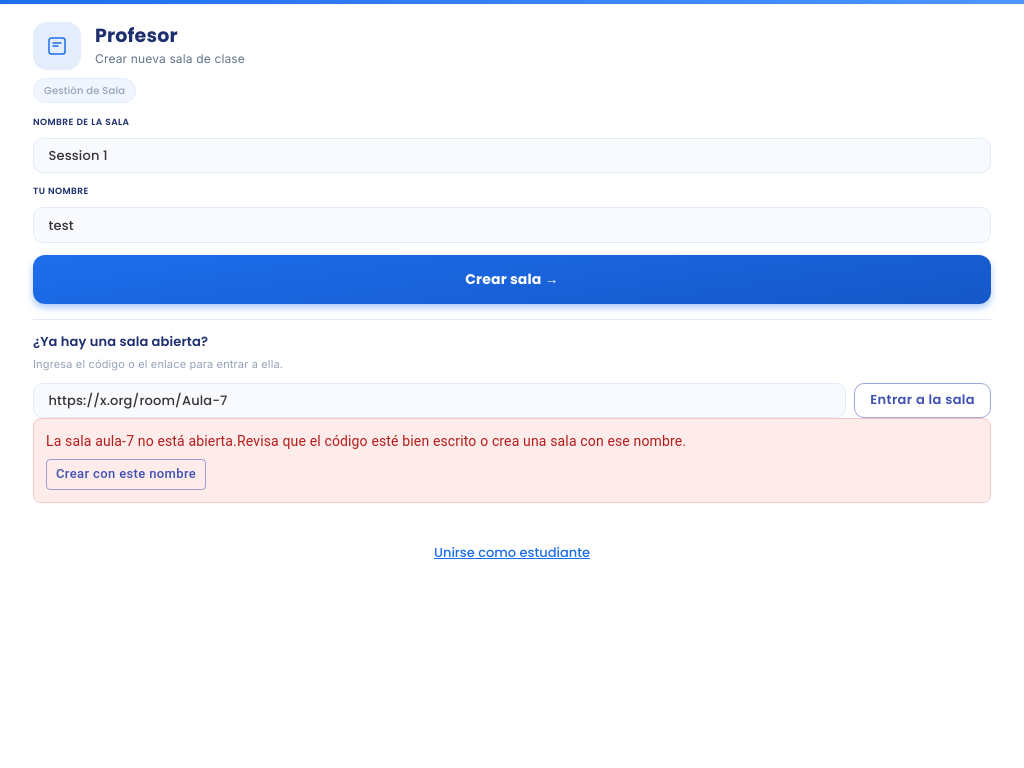
the RoomNameScreen component › when the room to join is not open › goes back from the confirmation without creating
Click the button "Crear con este nombre" at (126, 475), box [46,459,206,490]
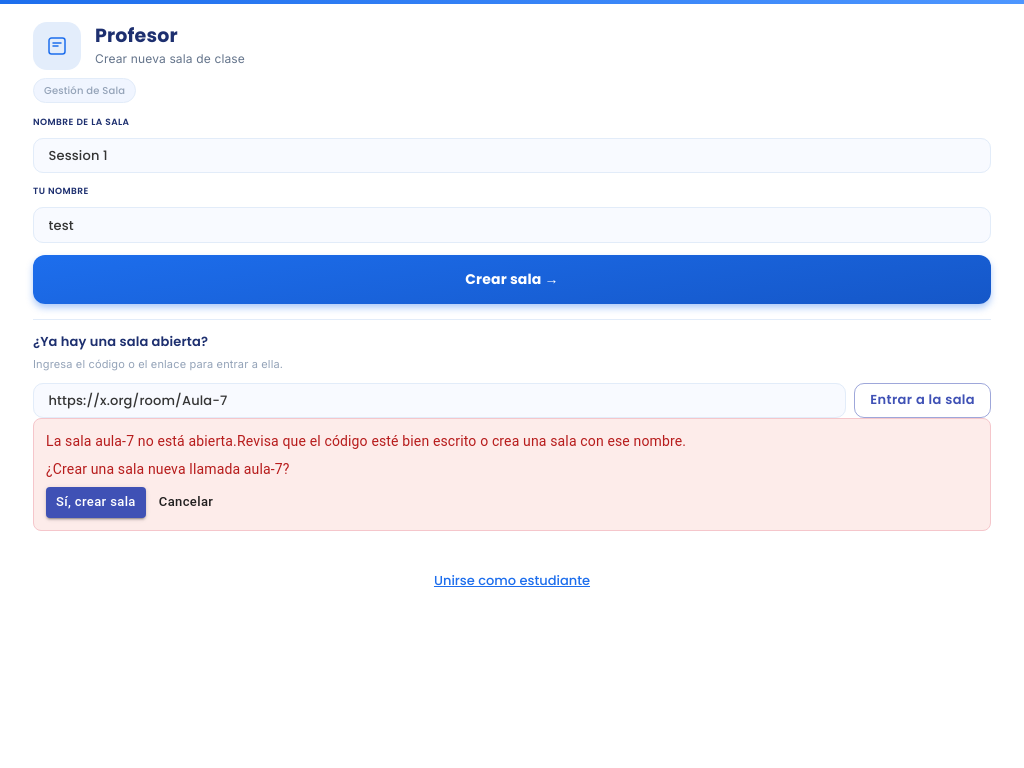
Click the button "Cancelar" at (186, 503), box [154,487,218,518]
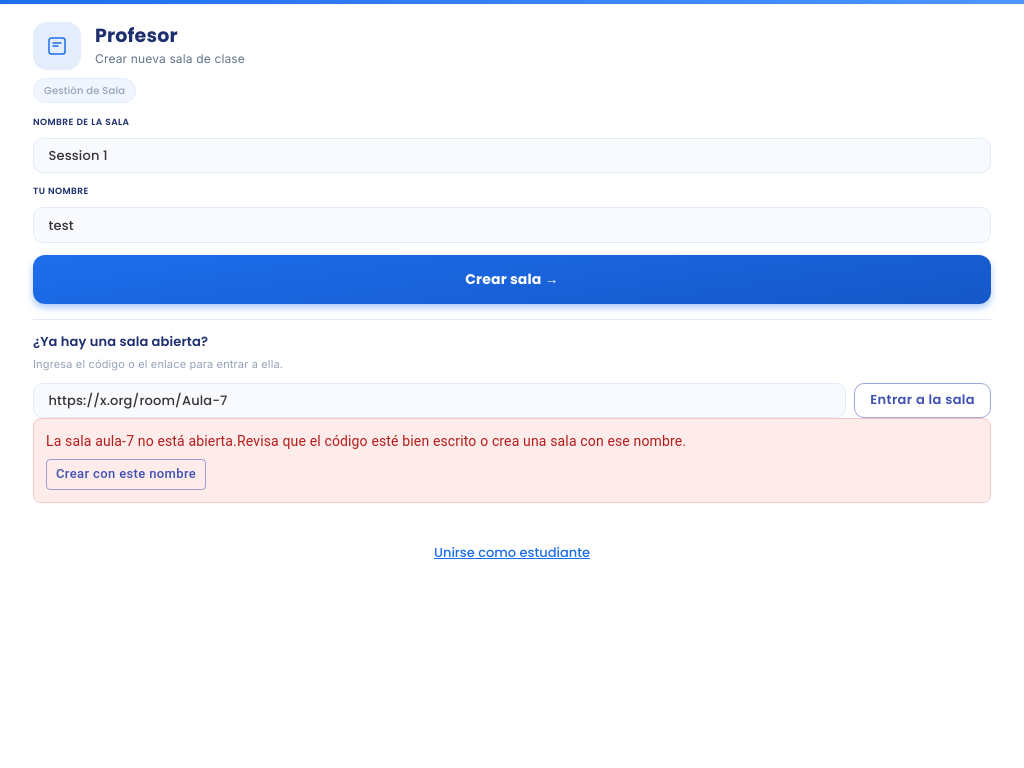
Result: the element with test id "teacher-join-confirm" is gone
